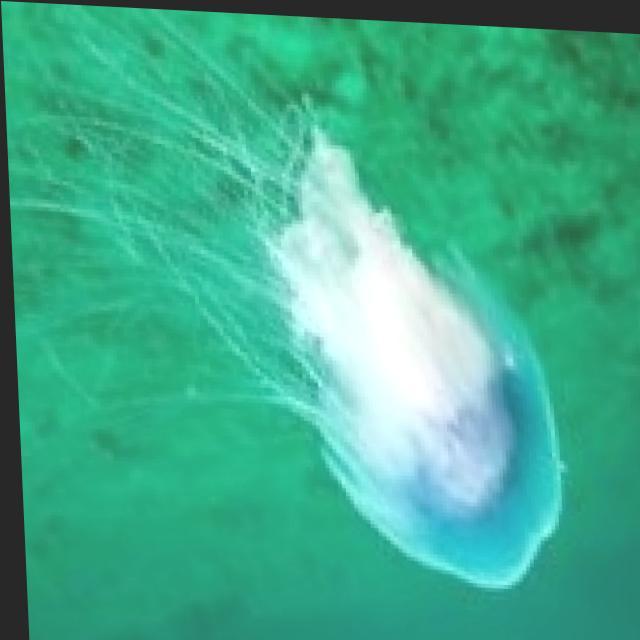Jellyfish: (207, 61, 606, 603)
